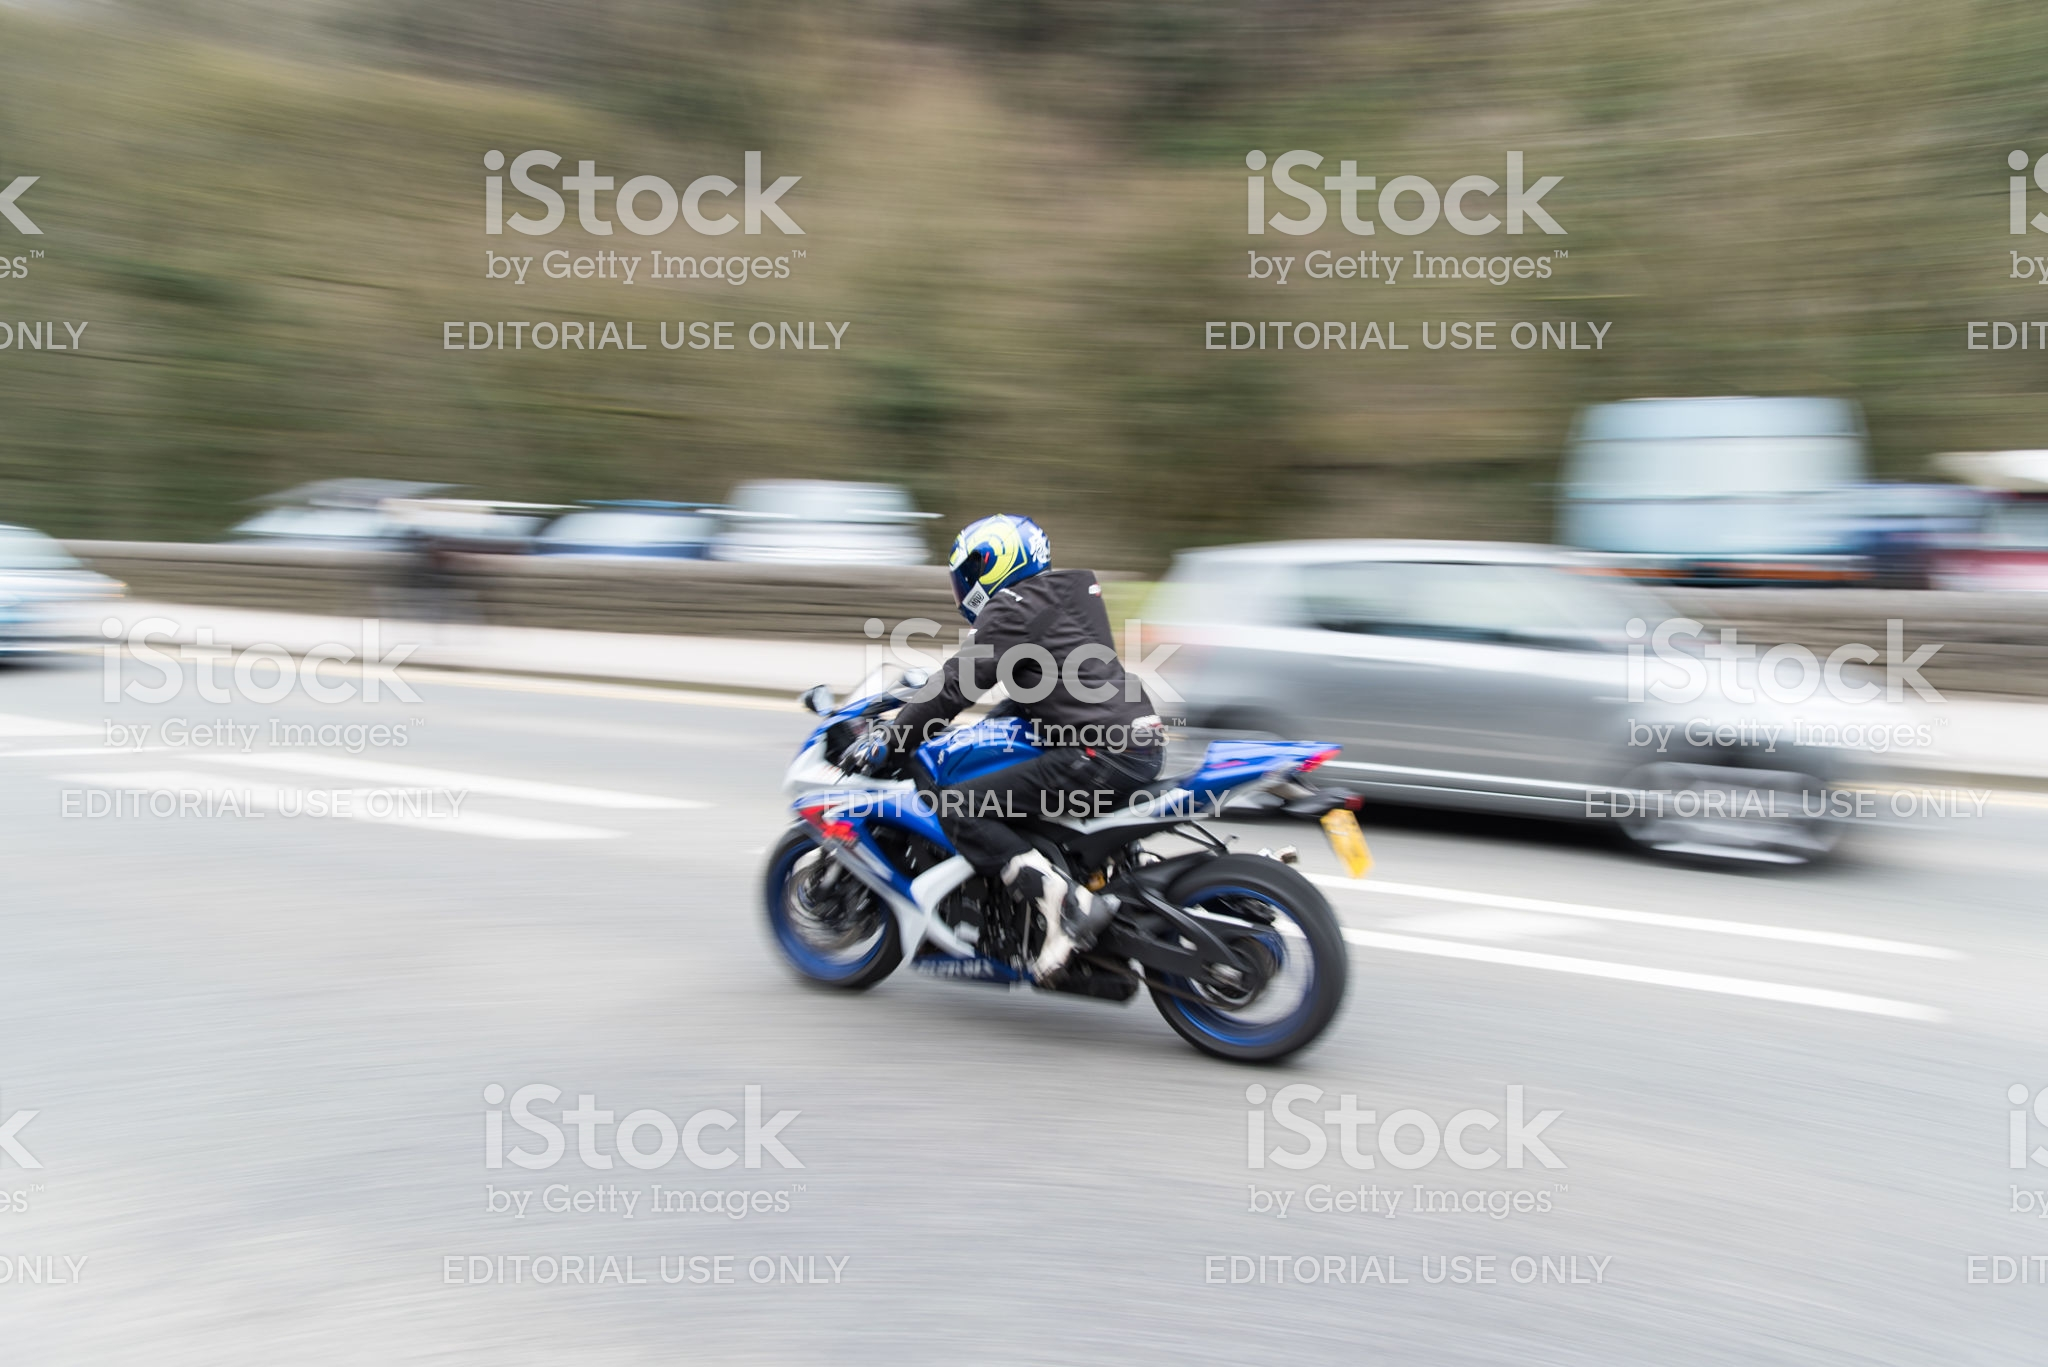helmet: (939, 500, 1058, 607)
